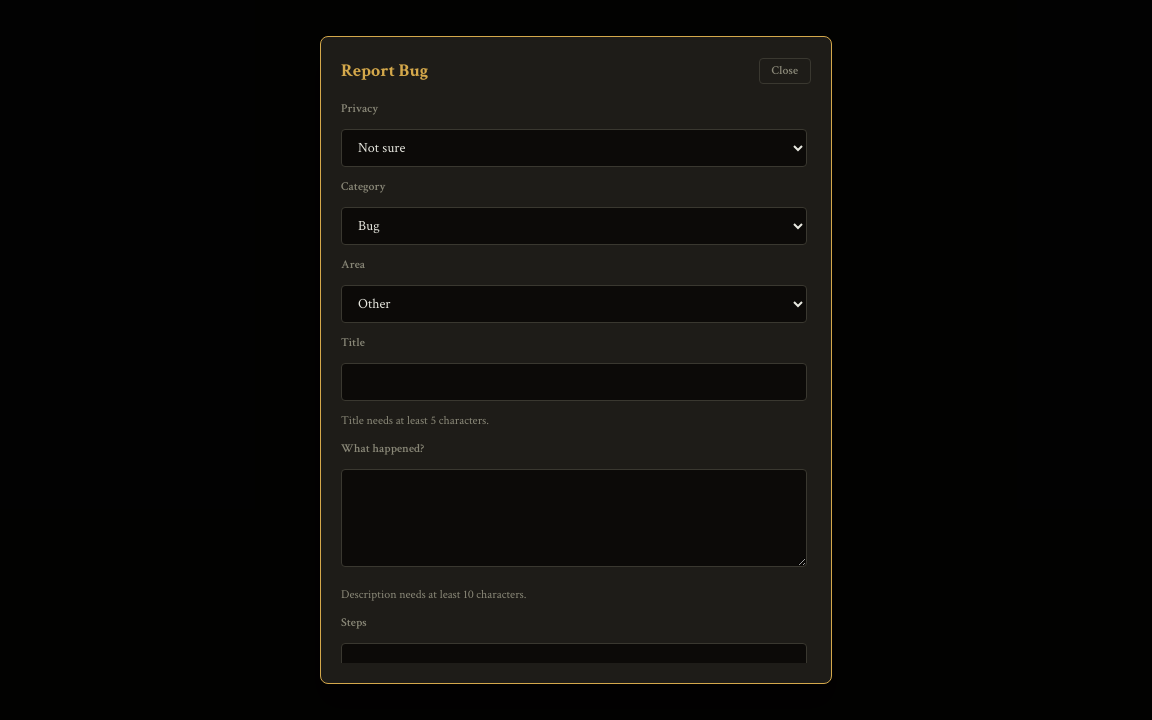
ReportBugModal › disables submit until the required title and description are usable
expect the text "Title needs at least 5 characters." is shown: met, box [341,413,489,428]
expect the text "Description needs at least 10 characters." is shown: met, box [341,587,527,602]
Type "Bag bug" into the field labelled "Title" at (574,382), box [341,363,807,401]
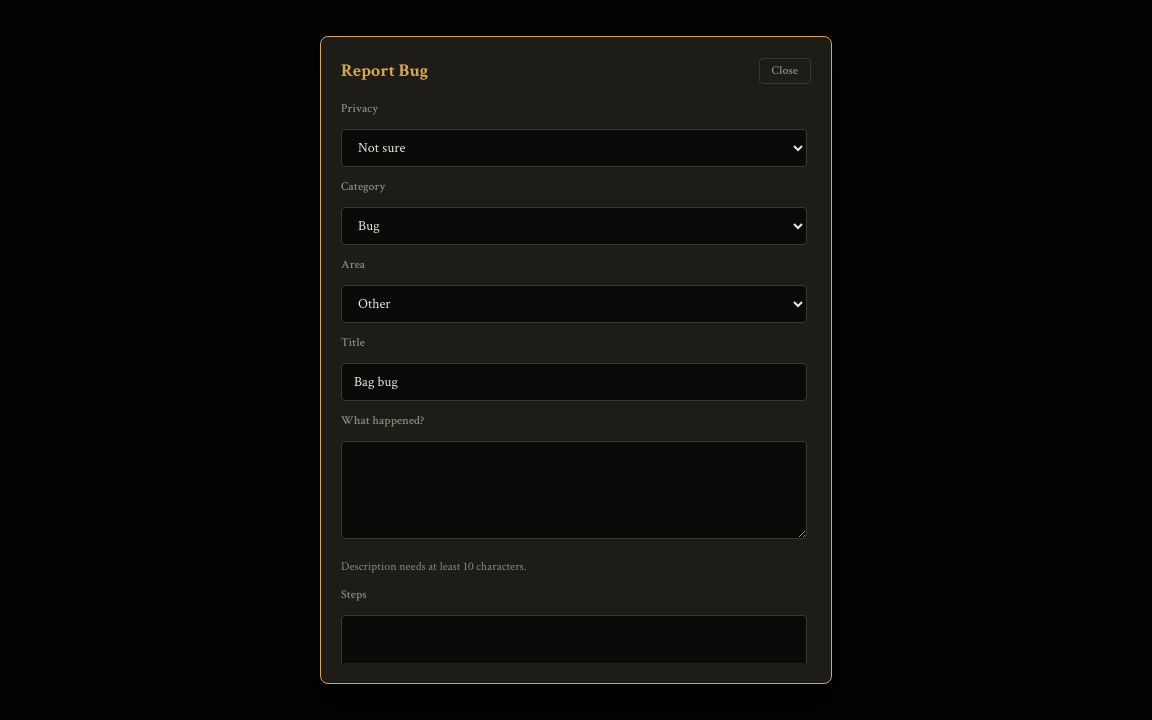
Type "Items disappeared after sorting." into the text box labelled "What happened?" at (574,490), box [341,441,807,539]
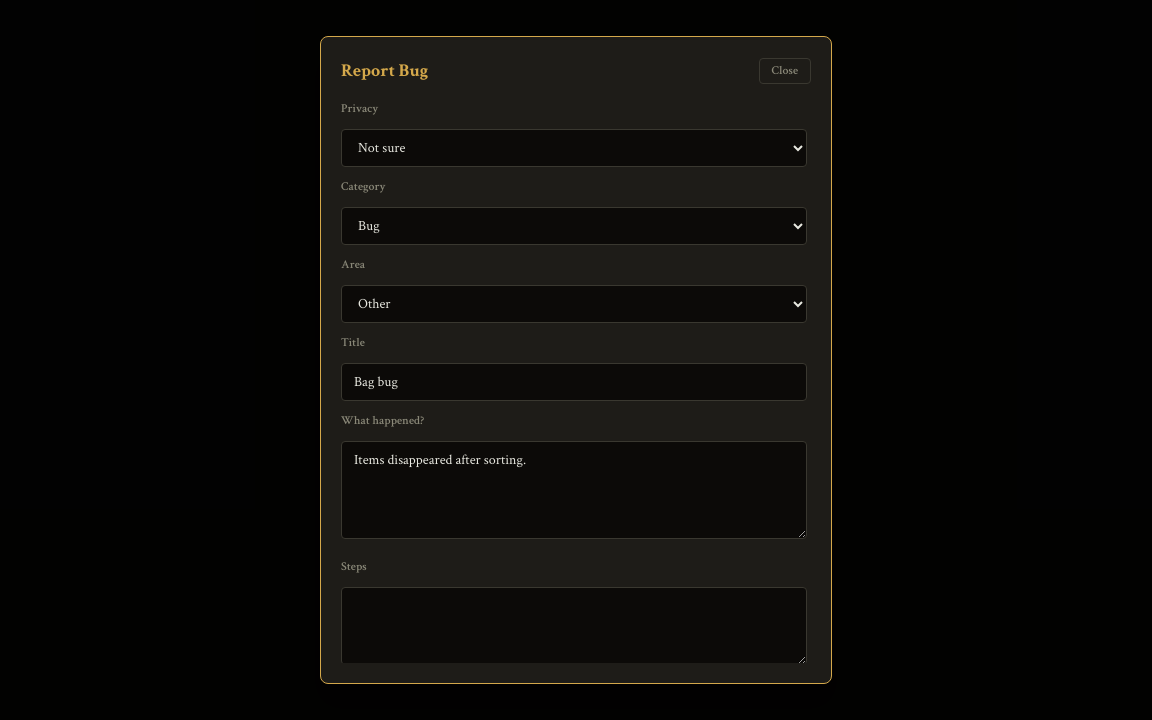
expect the text "Title needs at least 5 characters." is not shown: met
expect the text "Description needs at least 10 characters." is gone: met
